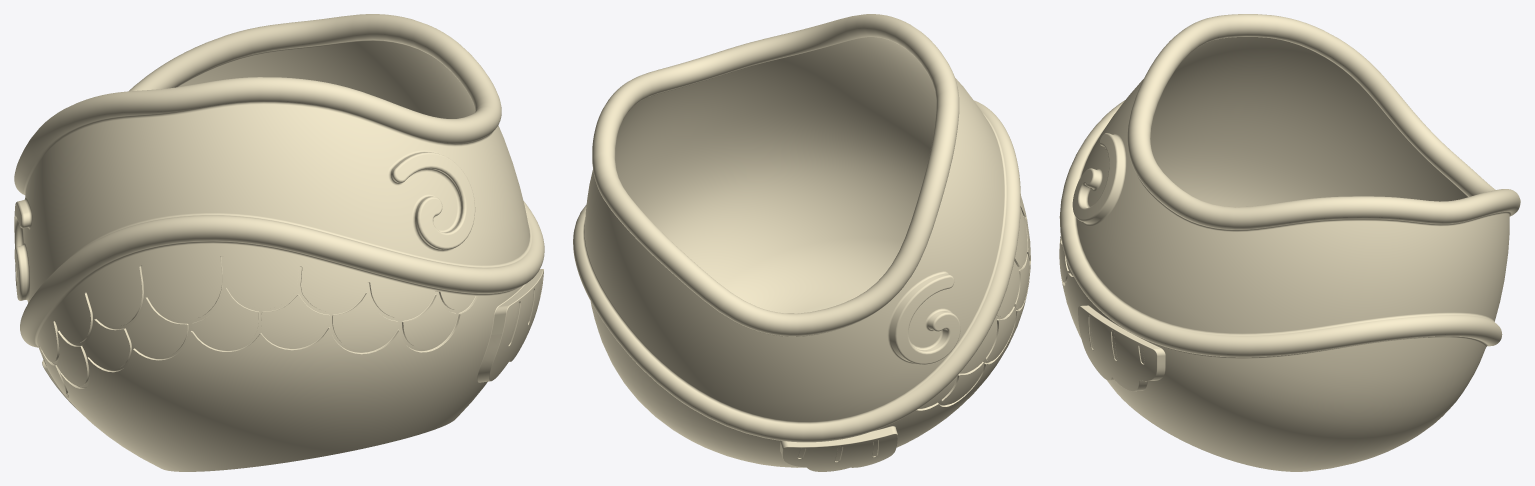
File: taiyaki-bowl.glb
3 views of the same model, side by side, from view 1: azimuth 30°, elevation 25°; view 2: azimuth 150°, elevation 25°; view 3: azimuth 270°, elevation 25° (orthographic). The views are drawn at different scales.
Parts seen in each view (by area): view 1: Taiyaki Bowl; view 2: Taiyaki Bowl; view 3: Taiyaki Bowl.
Boxes of the visible parts, x1=… form: Taiyaki Bowl: x1=14, y1=14, x2=544, y2=471; Taiyaki Bowl: x1=573, y1=14, x2=1030, y2=471; Taiyaki Bowl: x1=1059, y1=14, x2=1520, y2=471.
Bounding box in the file's own units: 0.1027 × 0.0943 × 0.1021.
